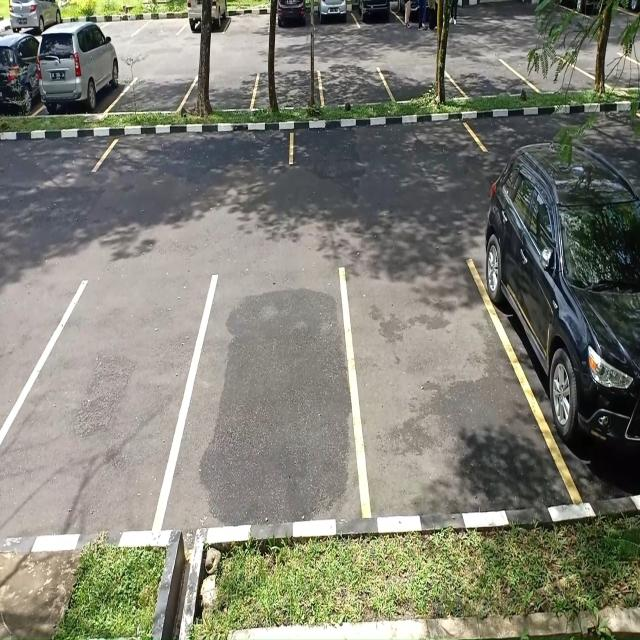empty: (180, 268, 356, 526), (19, 278, 187, 531), (350, 271, 520, 518), (287, 116, 483, 176), (96, 121, 295, 178), (114, 74, 194, 116), (185, 70, 258, 113), (254, 68, 322, 110), (454, 57, 525, 97), (385, 61, 454, 101), (318, 66, 388, 105)
occupied: (484, 175, 640, 500), (36, 36, 120, 118)
